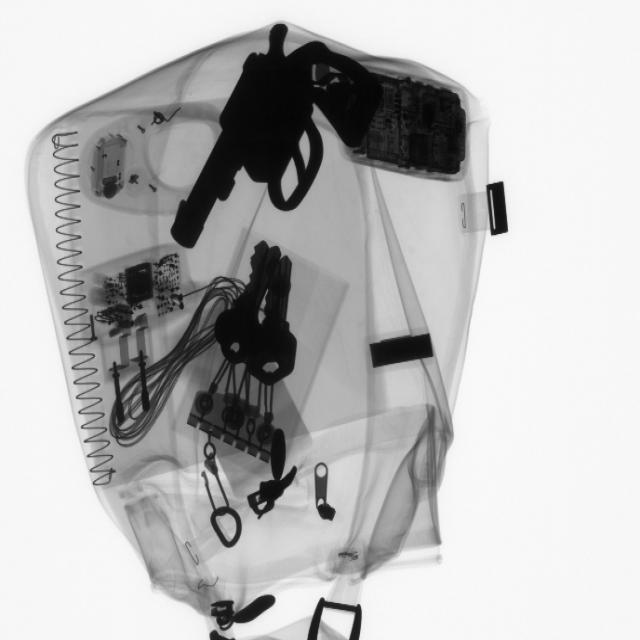GUN: (173, 25, 379, 258)
